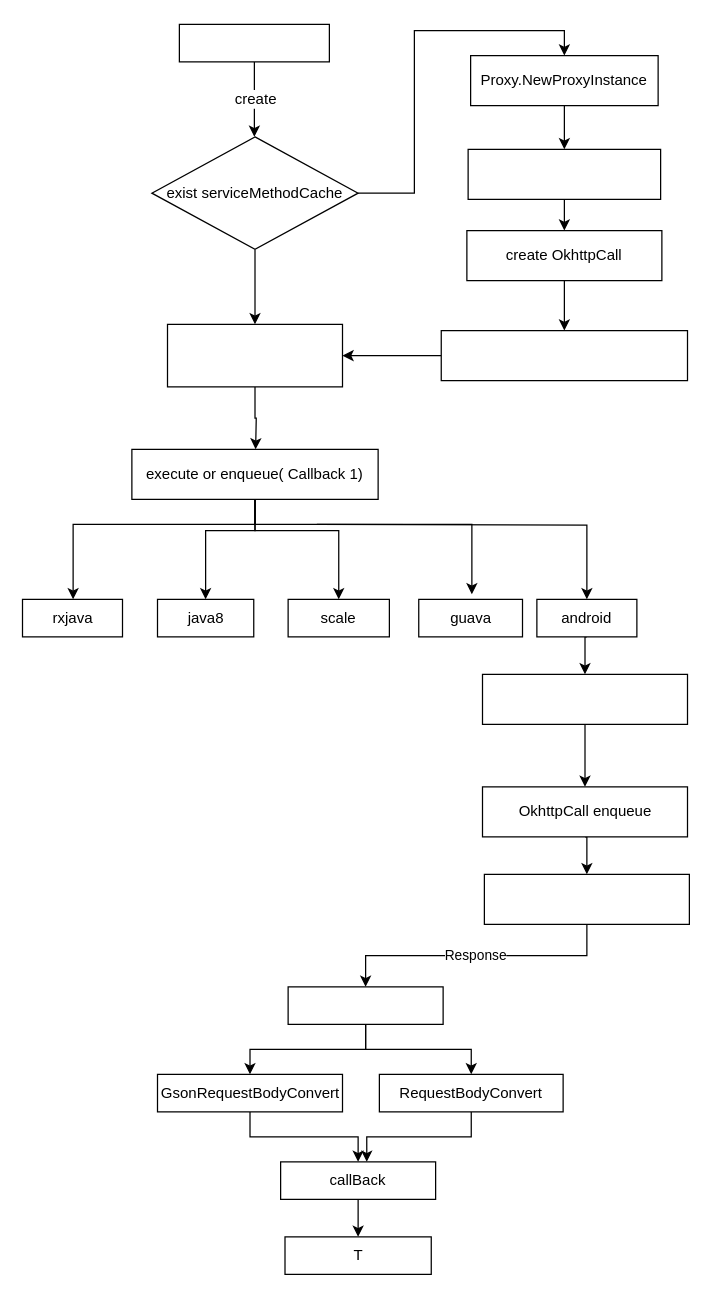
The diagram is 711 pixels wide and 1296 high, and some of its shapes have lost their labels. The box of each missing label's shape, as (x1, y1, x2, y2) in pixels:
convert: (287, 986, 443, 1024)
ExecuteCallAdapterFactorhy enqueue: (481, 673, 688, 724)
Okhttp3 ReqlCall enqueue: (483, 873, 689, 924)
Rerofit build: (178, 23, 329, 62)
serviceMethod: (166, 323, 342, 387)
serviceMethod.adapt(okhttpCall): (440, 329, 688, 381)
ServiceMethod.Builder: (467, 148, 661, 199)
